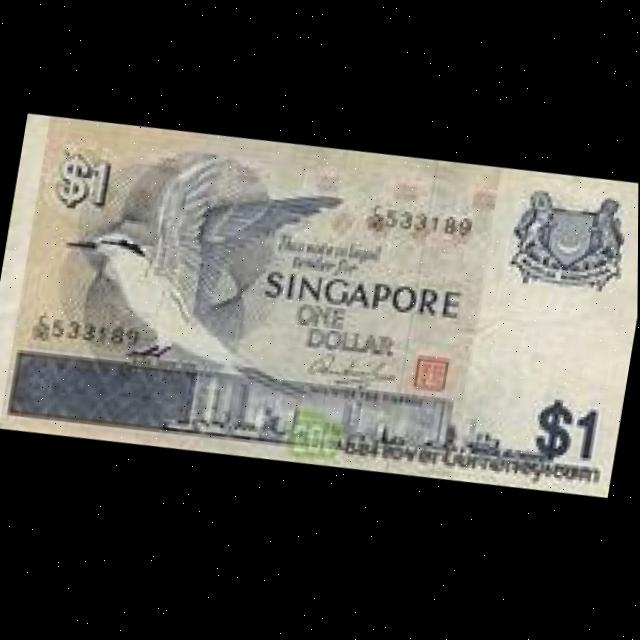banknote: (0, 90, 639, 525), (79, 145, 127, 233), (569, 398, 611, 480)
